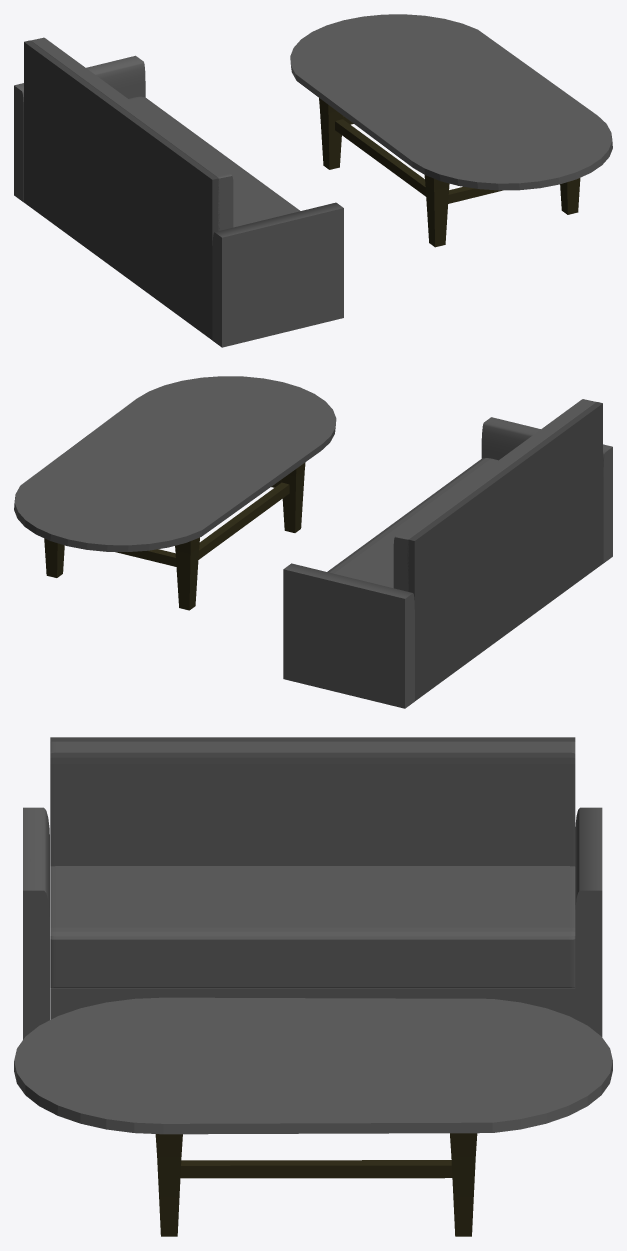
The model's file is sillon3.fbx.
The picture shows the model from 3 angles, top to bottom: view 1: azimuth 30°, elevation 25°; view 2: azimuth 150°, elevation 25°; view 3: azimuth 270°, elevation 25°; orthographic projection. The views are drawn at different scales.
Parts seen in each view (by area): view 1: Cube.026, Cube.004; view 2: Cube.026, Cube.004; view 3: Cube.026, Cube.004.
Boxes of the visible parts, left/top/right/bottom form: Cube.026: left=14, top=37, right=343, bottom=347; Cube.004: left=290, top=14, right=612, bottom=247; Cube.026: left=283, top=399, right=612, bottom=708; Cube.004: left=14, top=376, right=336, bottom=610; Cube.026: left=23, top=737, right=602, bottom=1039; Cube.004: left=14, top=997, right=612, bottom=1236.
Bounding box in the file's own units: 813 × 709 × 292.
